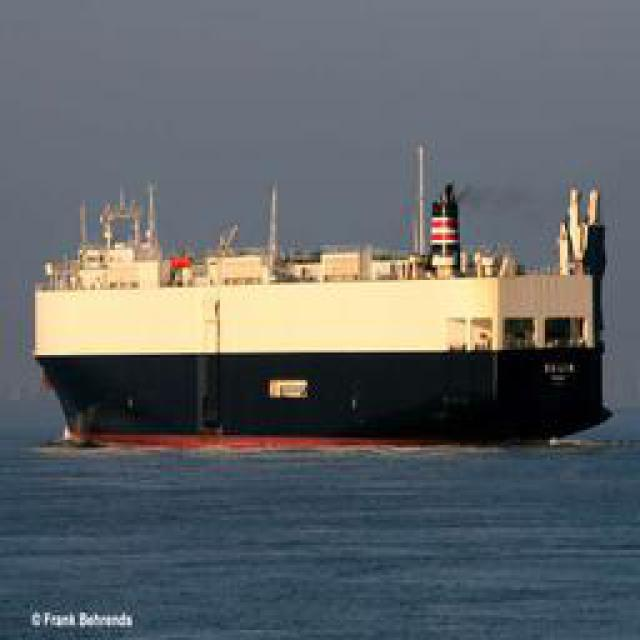Ship: (34, 150, 599, 440)
